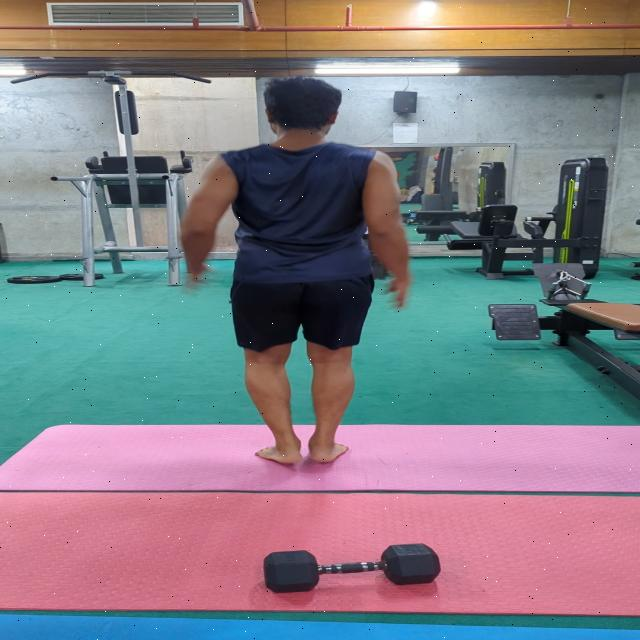Normal_JumpingJacks: (162, 61, 421, 490)
